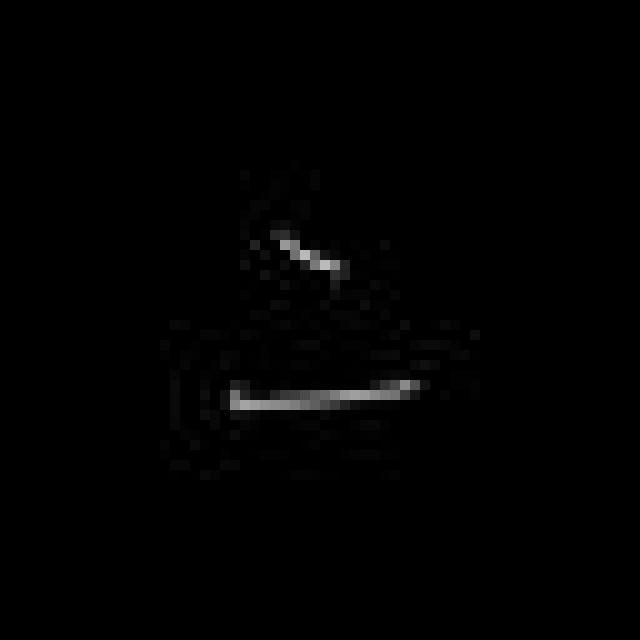2 -two-: (206, 226, 429, 429)
